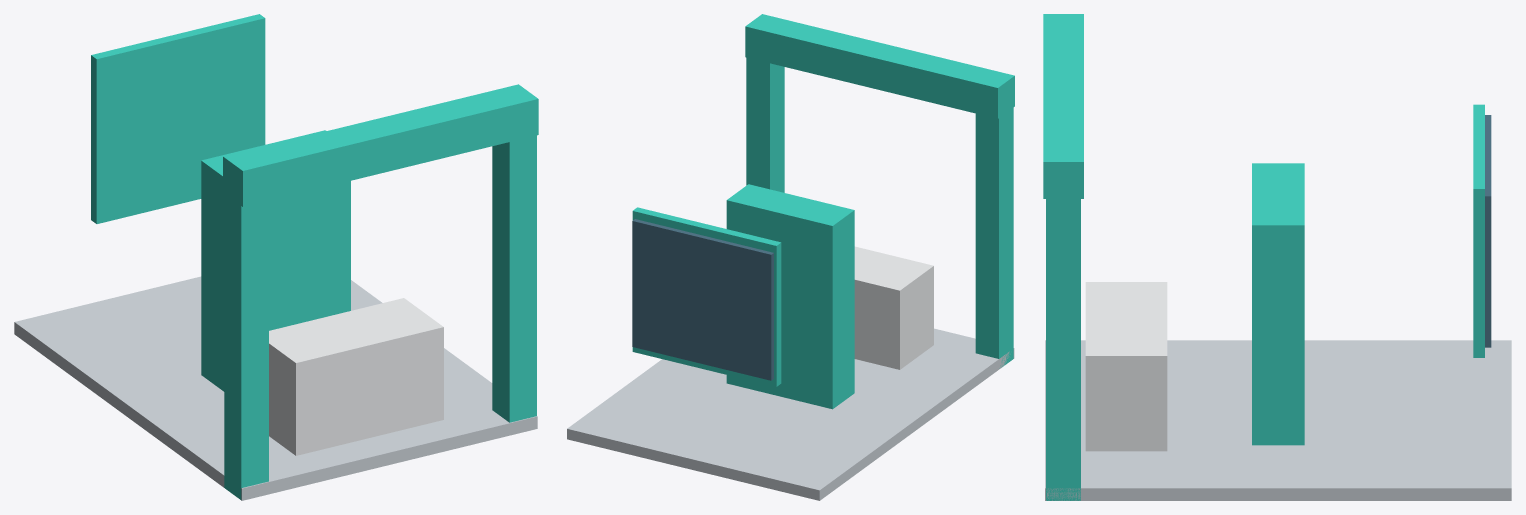
3 renders of one model, left to right at view 1: azimuth 30°, elevation 25°; view 2: azimuth 150°, elevation 25°; view 3: azimuth 270°, elevation 25°, orthographic. The views are drawn at different scales.
Visible parts, largest first — view 1: Exhibition Booth Concept; view 2: Exhibition Booth Concept; view 3: Exhibition Booth Concept.
Boxes of the visible parts, x1=… form: Exhibition Booth Concept: x1=14, y1=14, x2=538, y2=500; Exhibition Booth Concept: x1=567, y1=14, x2=1014, y2=500; Exhibition Booth Concept: x1=1043, y1=14, x2=1511, y2=500.
Size of the model in its own units: 3 by 3.2 by 4.02.
